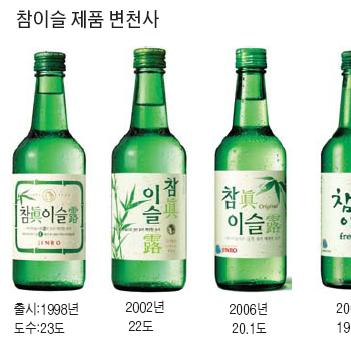soju: (107, 48, 191, 296), (10, 50, 88, 295), (212, 48, 289, 295), (319, 49, 351, 281)
